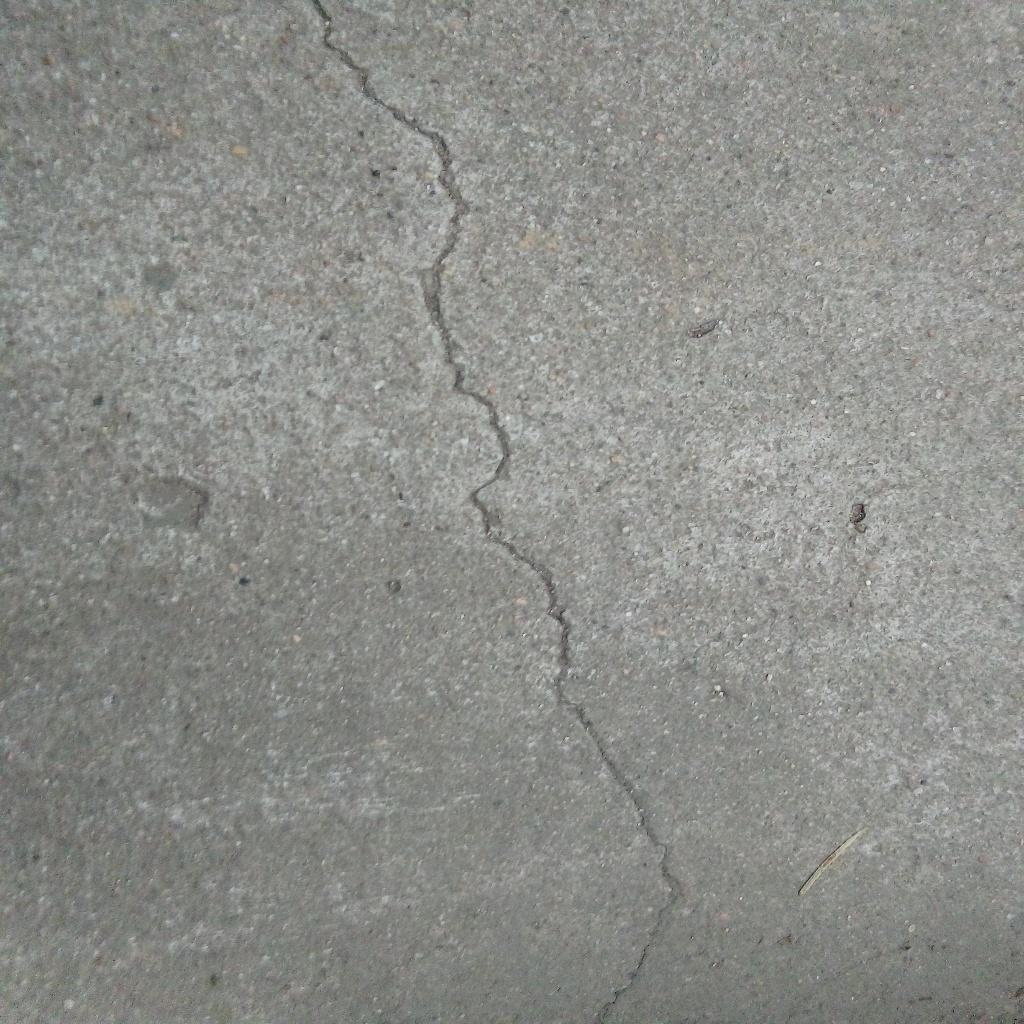Crack: (316, 1, 680, 1024)
Spalling: (135, 475, 211, 532)
